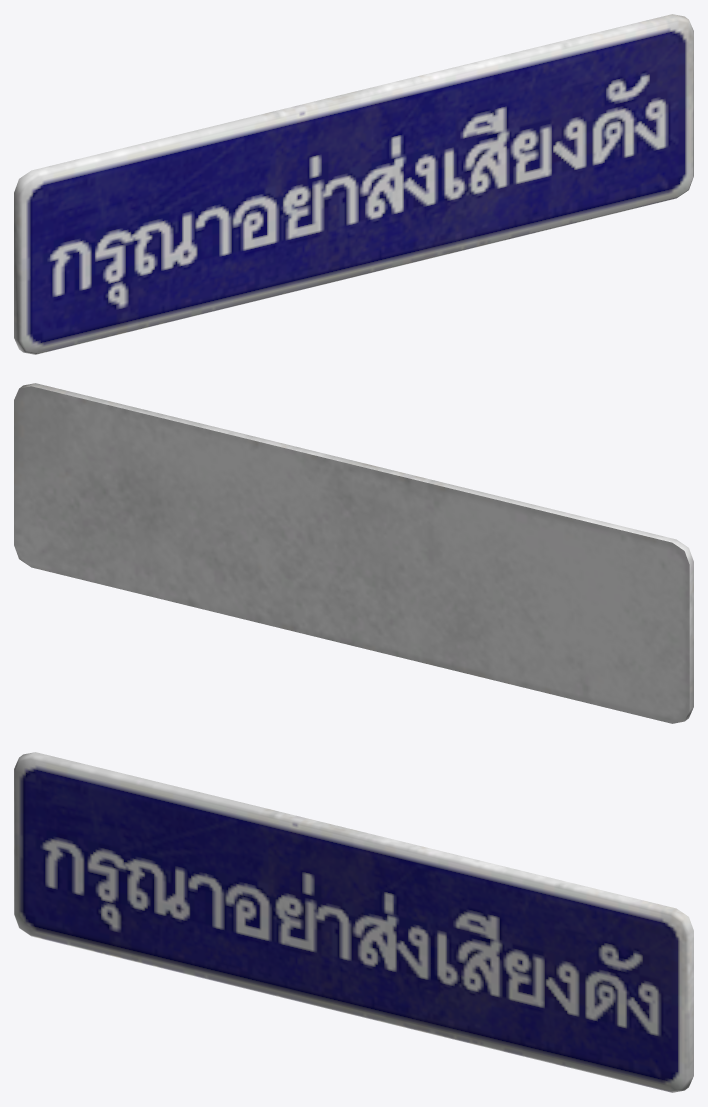
File: signNoSound.FBX
3 views of the same model, one above another, from view 1: azimuth 30°, elevation 25°; view 2: azimuth 150°, elevation 25°; view 3: azimuth 330°, elevation 25° (orthographic).
Visible parts, largest first — view 1: SM_SignNoSound; view 2: SM_SignNoSound; view 3: SM_SignNoSound.
Boxes of the visible parts, x1=… form: SM_SignNoSound: x1=14, y1=14, x2=693, y2=354; SM_SignNoSound: x1=14, y1=383, x2=693, y2=723; SM_SignNoSound: x1=14, y1=752, x2=693, y2=1092.
Bounding box in the file's own units: 30.55 × 7.83 × 0.45.
1 material, 1 textured.
